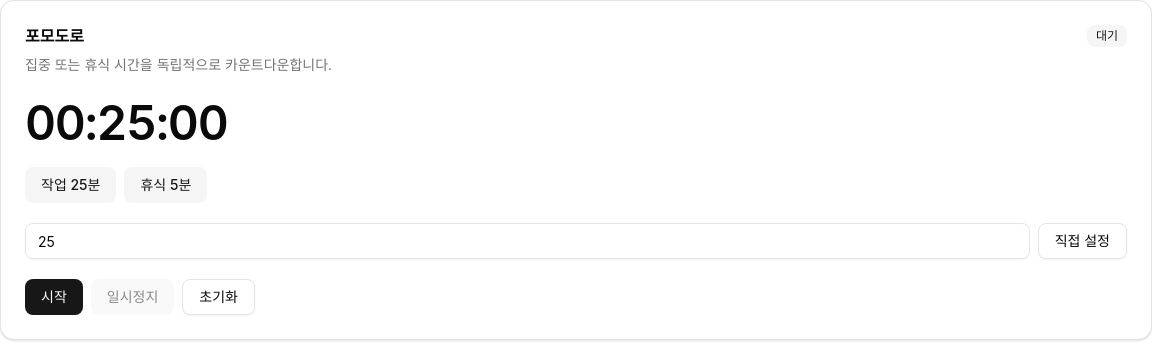
Scenario: PomodoroCard › switches between presets and resets an interrupted countdown
The width and height of the screenshot is (1152, 358).
Click the button "휴식 5분" at (166, 185), box left=124, top=167, right=207, bottom=203
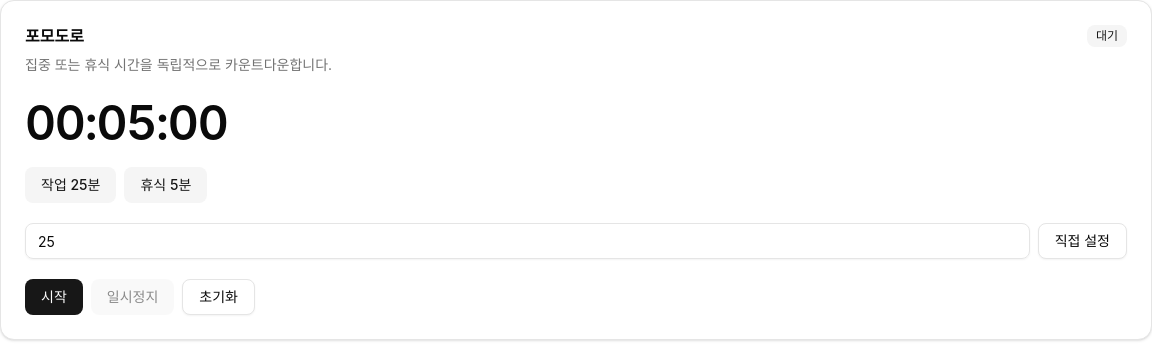
Expected: the text "00:05:00" is shown, left=25, top=93, right=228, bottom=152
Click the button "시작" at (54, 297), box left=25, top=279, right=83, bottom=315
Wait 2000 ms
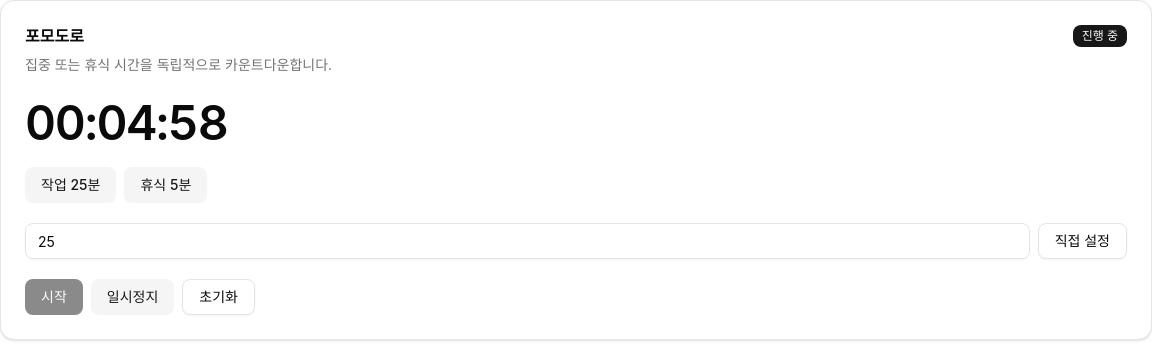
Expected: the text "00:04:58" is shown, left=25, top=93, right=228, bottom=152
Click the button "일시정지" at (133, 297), box left=91, top=279, right=174, bottom=315
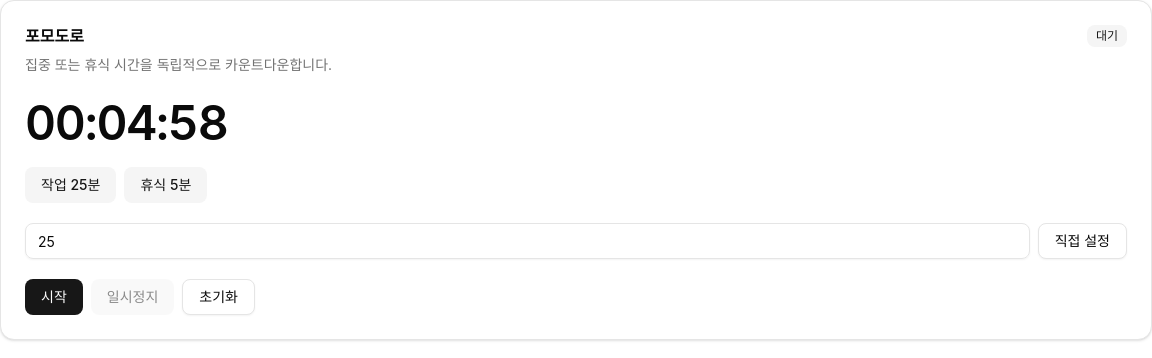
Click the button "초기화" at (219, 297), box left=182, top=279, right=255, bottom=315
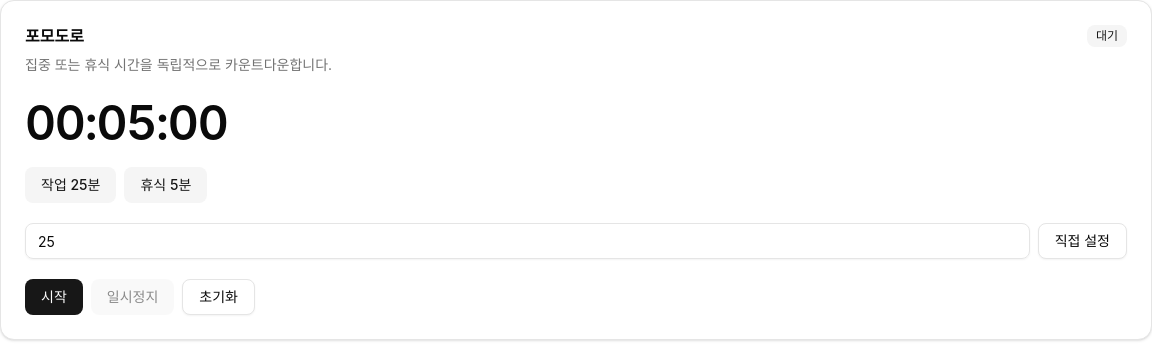
Expected: the text "00:05:00" is shown, left=25, top=93, right=228, bottom=152
Click the button "작업 25분" at (71, 185), box left=25, top=167, right=116, bottom=203
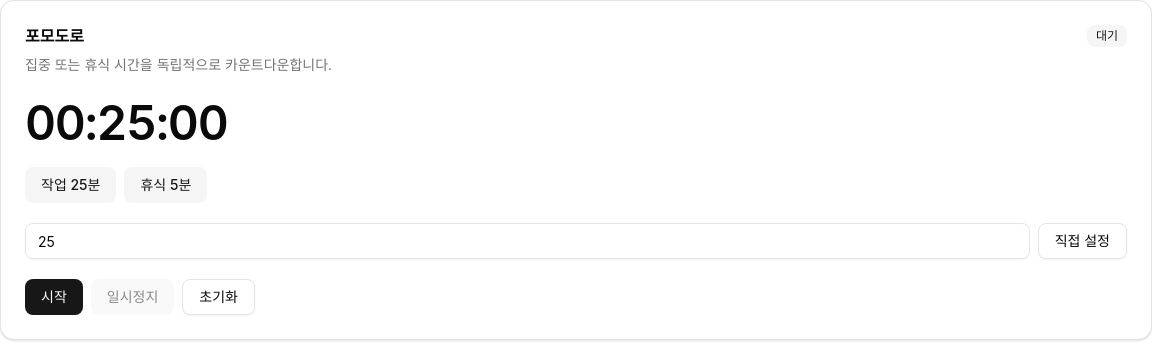
Expected: the text "00:25:00" is shown, left=25, top=93, right=228, bottom=152
